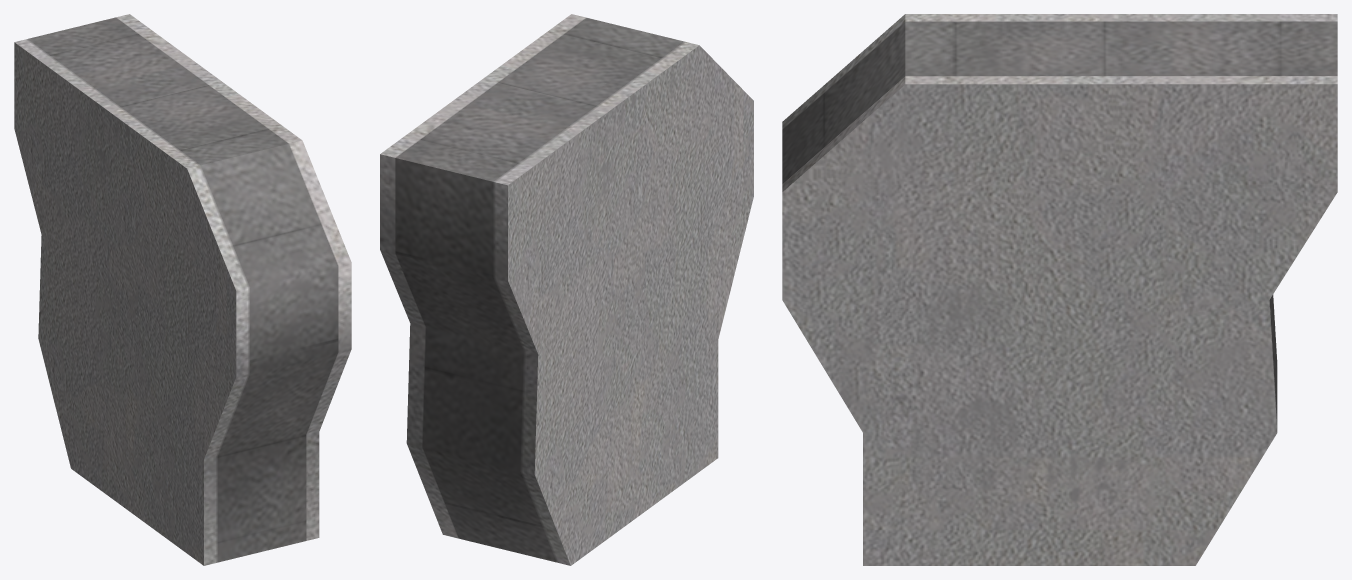
The model's file is BrokenWallType2_.fbx.
The picture shows the model from 3 angles, left to right: view 1: azimuth 30°, elevation 25°; view 2: azimuth 150°, elevation 25°; view 3: azimuth 270°, elevation 25°; orthographic projection. The views are drawn at different scales.
Parts seen in each view (by area): view 1: BrokenWallType2_; view 2: BrokenWallType2_; view 3: BrokenWallType2_.
Part boxes in pixels (<box>): BrokenWallType2_: <box>14,14,351,565</box>; BrokenWallType2_: <box>380,14,753,565</box>; BrokenWallType2_: <box>782,14,1337,565</box>.
Size of the model in its own units: 0.1707 by 0.5436 by 0.5681.
